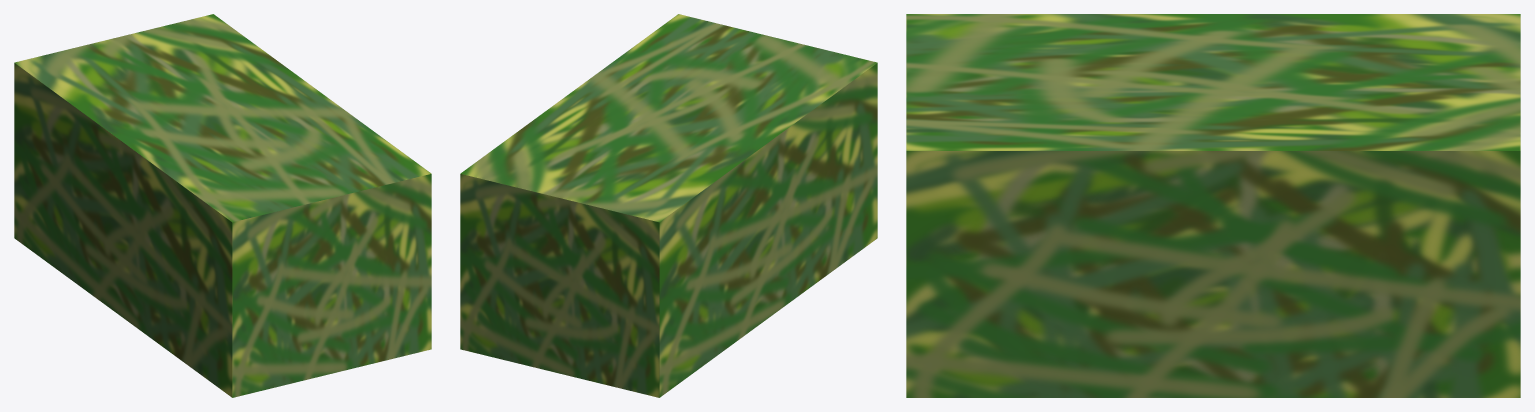
File: sensyaCollider.fbx
3 renders of one model, left to right at view 1: azimuth 30°, elevation 25°; view 2: azimuth 150°, elevation 25°; view 3: azimuth 270°, elevation 25°, orthographic. The views are drawn at different scales.
Visible parts, largest first — view 1: Box001; view 2: Box001; view 3: Box001.
Part boxes in pixels (x1,y1,x2,y2): Box001: (14,14,431,397); Box001: (460,14,877,397); Box001: (906,14,1520,397).
Bounding box in the file's own units: 541 × 1027 × 456.
